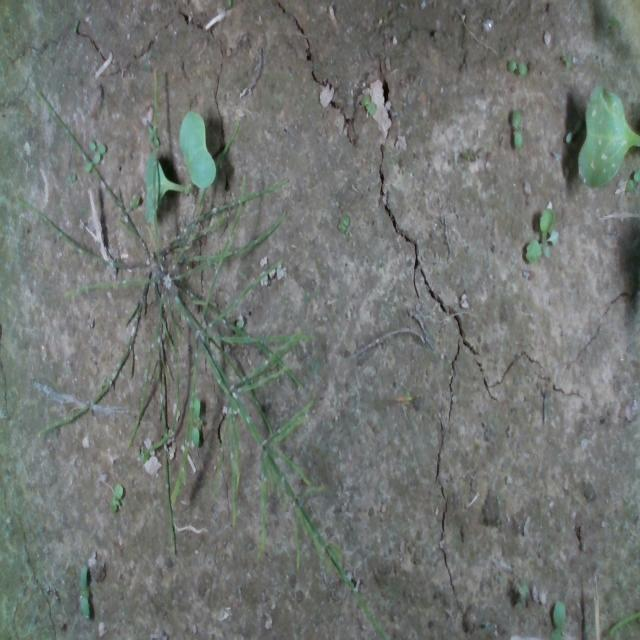weed: (524, 204, 560, 264), (78, 562, 90, 620), (510, 107, 523, 150), (505, 58, 527, 76), (360, 90, 376, 114), (111, 481, 123, 513), (338, 212, 350, 235), (560, 51, 572, 70)
